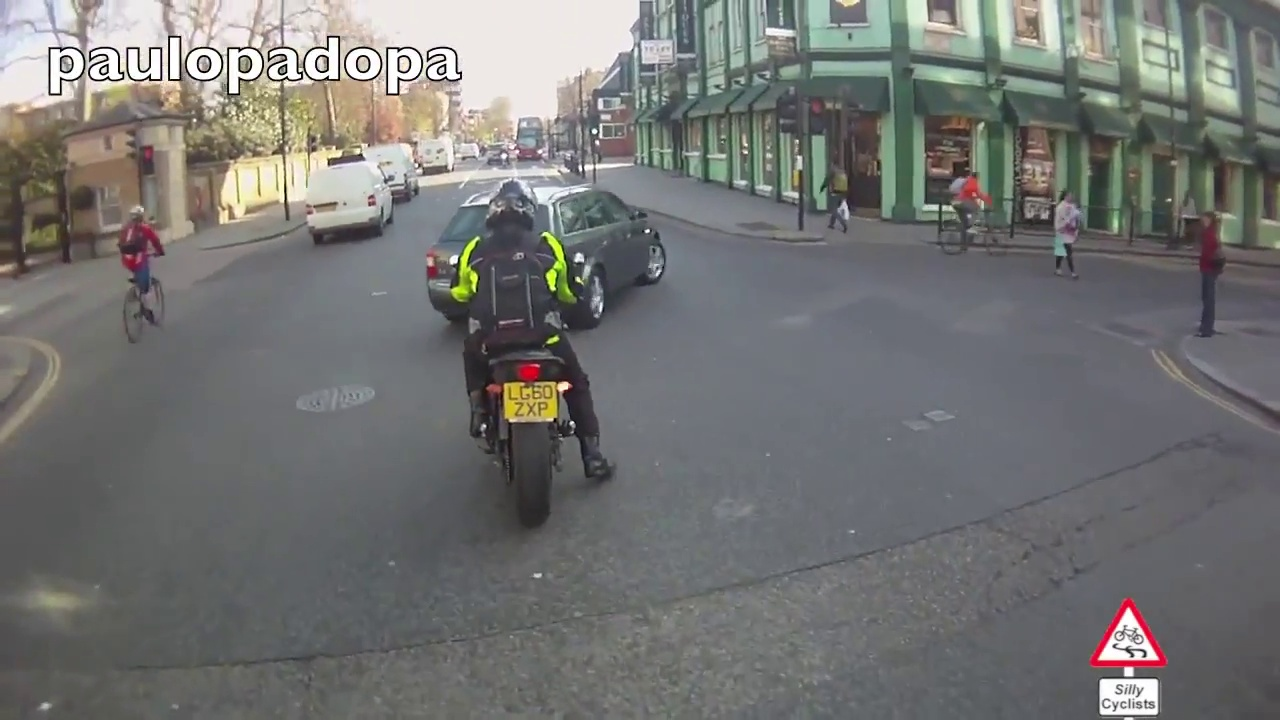cyclist_back: (448, 174, 624, 516), (113, 205, 172, 348)
cyclist_side: (936, 164, 1008, 259)
